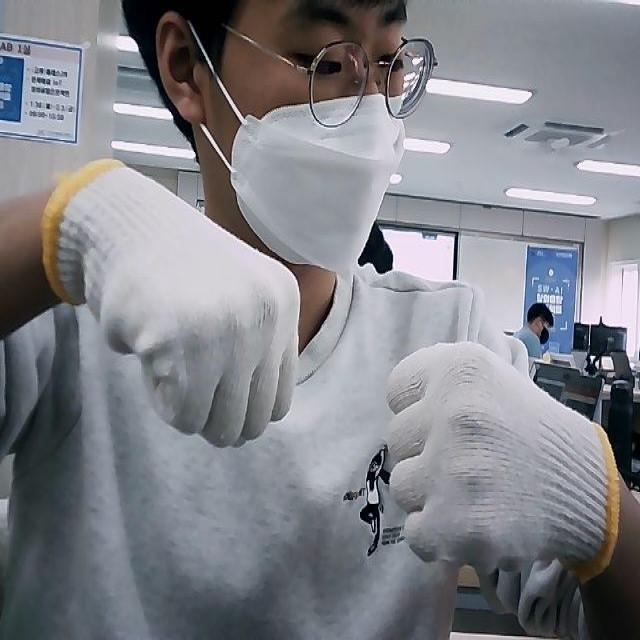Guantes: (43, 153, 300, 448), (388, 338, 619, 581)
